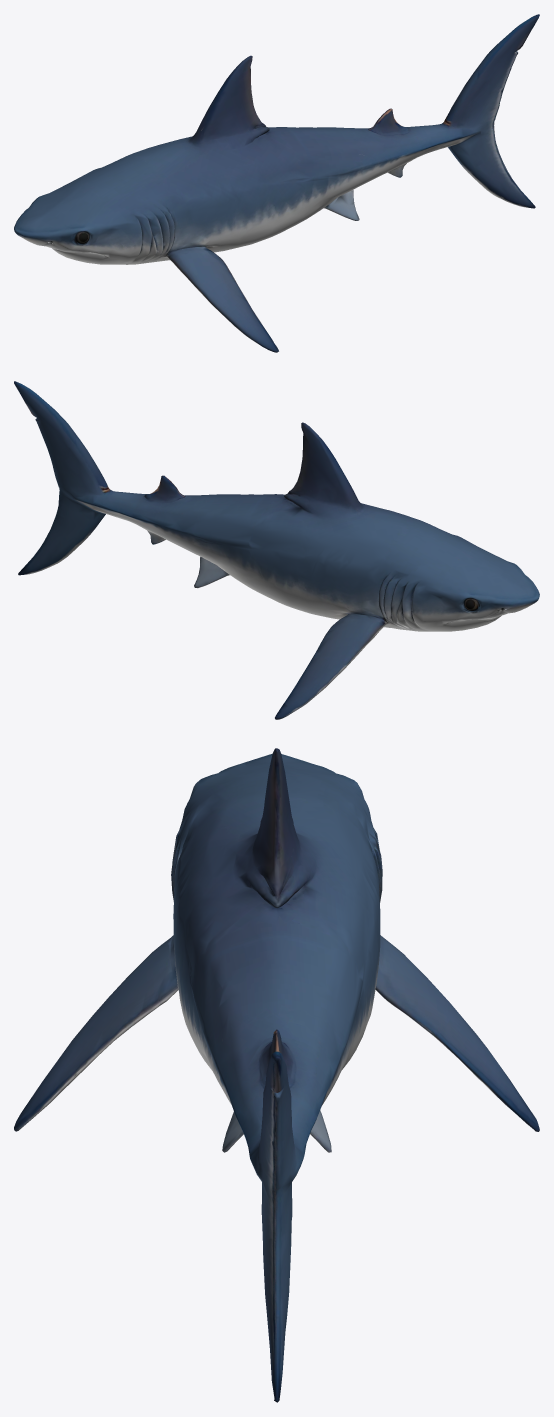
The model's file is fish-mako.glb.
The picture shows the model from 3 angles, top to bottom: view 1: azimuth 30°, elevation 25°; view 2: azimuth 150°, elevation 25°; view 3: azimuth 270°, elevation 25°; orthographic projection. The views are drawn at different scales.
Visible parts, largest first — view 1: tripo_node_d62897b1-2d9b-4fe7-9e7b-683844650282; view 2: tripo_node_d62897b1-2d9b-4fe7-9e7b-683844650282; view 3: tripo_node_d62897b1-2d9b-4fe7-9e7b-683844650282.
Boxes of the visible parts, x1,y1,x2,y2 form: tripo_node_d62897b1-2d9b-4fe7-9e7b-683844650282: [14, 14, 539, 352]; tripo_node_d62897b1-2d9b-4fe7-9e7b-683844650282: [14, 381, 539, 719]; tripo_node_d62897b1-2d9b-4fe7-9e7b-683844650282: [14, 748, 539, 1402].
Bounding box in the file's own units: 1 × 0.4251 × 0.4789.
1 material, 1 textured.
